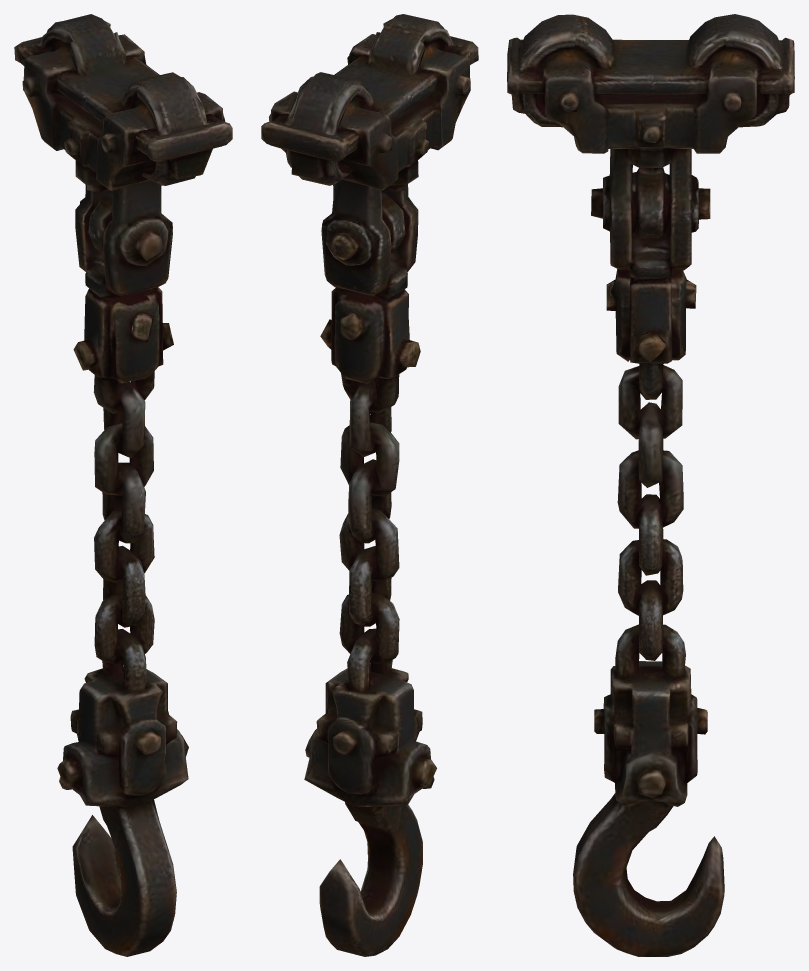
The model's file is hook.glb.
The picture shows the model from 3 angles, left to right: view 1: azimuth 30°, elevation 25°; view 2: azimuth 150°, elevation 25°; view 3: azimuth 270°, elevation 25°; orthographic projection. The views are drawn at different scales.
Parts seen in each view (by area): view 1: hook; view 2: hook; view 3: hook.
Part boxes in pixels (x1=…): hook: x1=14, y1=14, x2=232, y2=956; hook: x1=261, y1=14, x2=478, y2=956; hook: x1=507, y1=14, x2=794, y2=956.
Bounding box in the file's own units: 0.2227 × 1.6 × 0.4483.
Materials: 1 (1 with a texture image).
